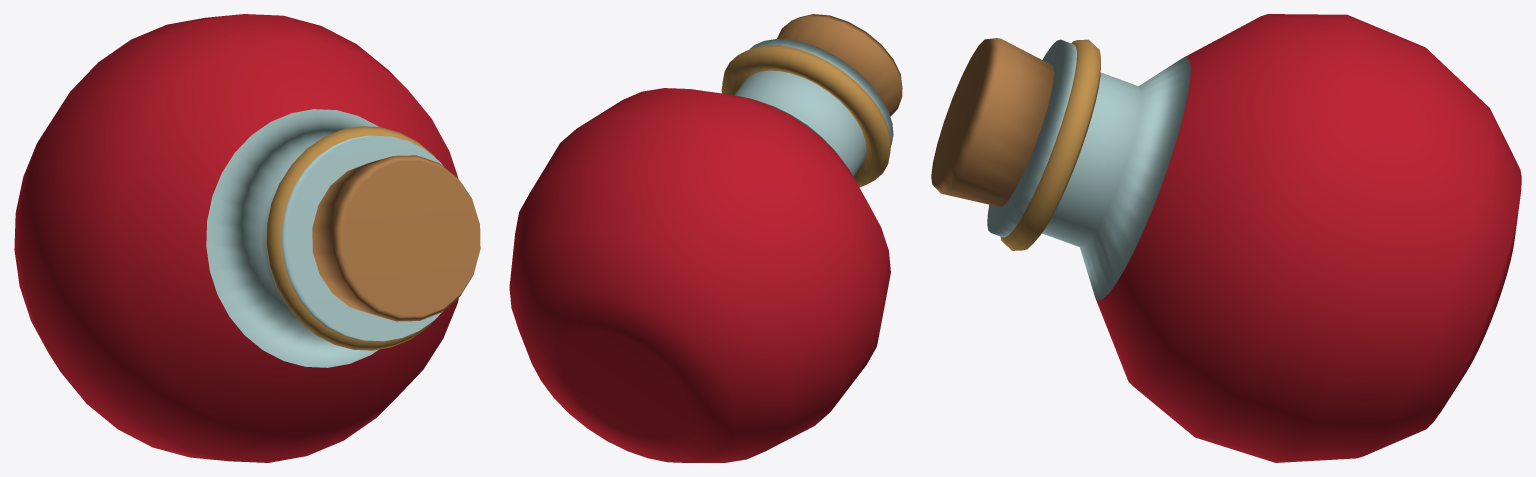
File: health_s.glb
3 views of the same model, side by side, from view 1: azimuth 30°, elevation 25°; view 2: azimuth 150°, elevation 25°; view 3: azimuth 270°, elevation 25° (orthographic). The views are drawn at different scales.
Visible parts, largest first — view 1: rounded red bottle, glass shoulder and neck, cork stopper, brass neck ring; view 2: rounded red bottle, glass shoulder and neck, brass neck ring, cork stopper; view 3: rounded red bottle, glass shoulder and neck, cork stopper, brass neck ring.
Boxes of the visible parts, bbox=[...] form: rounded red bottle: bbox=[14, 14, 458, 462]; glass shoulder and neck: bbox=[206, 109, 443, 367]; cork stopper: bbox=[312, 155, 480, 321]; brass neck ring: bbox=[266, 126, 435, 350]; rounded red bottle: bbox=[509, 88, 890, 462]; glass shoulder and neck: bbox=[735, 39, 893, 176]; brass neck ring: bbox=[721, 45, 890, 187]; cork stopper: bbox=[777, 14, 902, 116]; rounded red bottle: bbox=[1095, 14, 1521, 462]; glass shoulder and neck: bbox=[987, 39, 1190, 300]; cork stopper: bbox=[931, 38, 1054, 207]; brass neck ring: bbox=[1000, 39, 1100, 250].
Size of the model in its own units: 0.2358 by 0.2356 by 0.3101.
